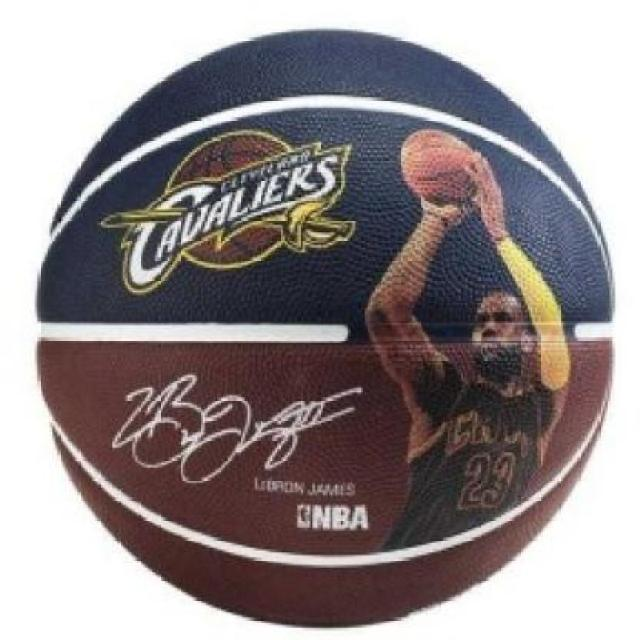basketball: (27, 19, 626, 636)
